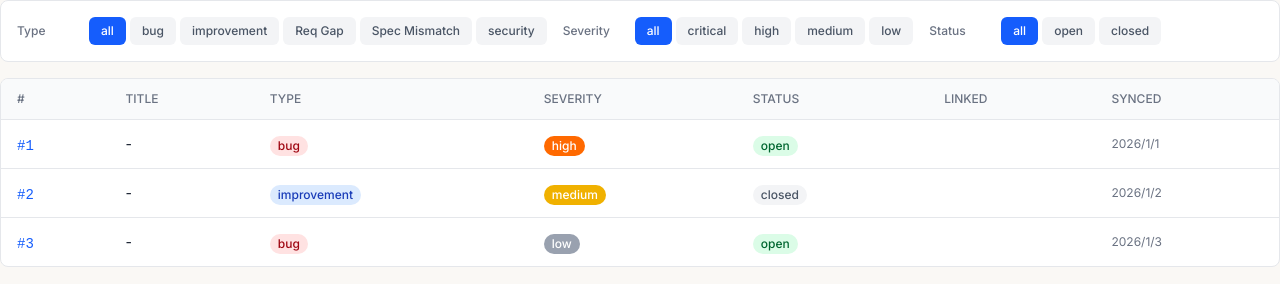
FeedbackClientView › typeフィルタで絞り込みができる
Click the button with test id "filter-type-bug" at (153, 31), box x1=130 y1=17 x2=176 y2=45
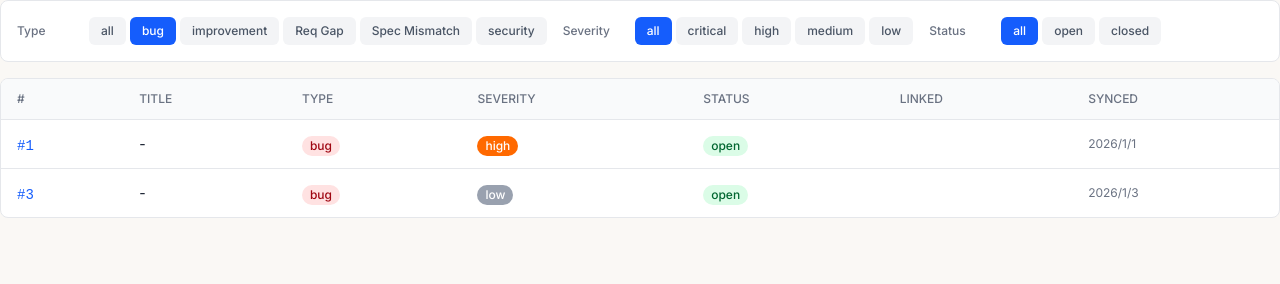
Check: the number of rows with test id "feedback-row" is 2, box x1=1 y1=120 x2=1279 y2=168; x1=1 y1=168 x2=1279 y2=217
